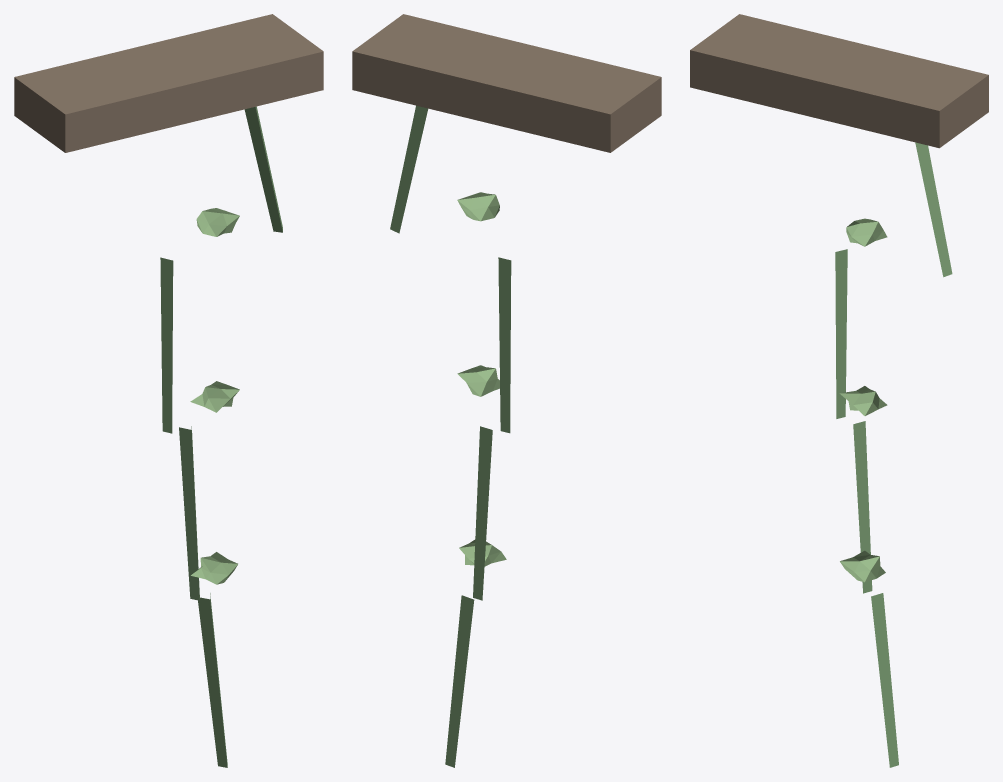
The model's file is vine_v09.glb.
3 renders of one model, left to right at view 1: azimuth 30°, elevation 25°; view 2: azimuth 150°, elevation 25°; view 3: azimuth 330°, elevation 25°, orthographic. The views are drawn at different scales.
Parts seen in each view (by area): view 1: lod0; view 2: lod0; view 3: lod0.
Boxes of the visible parts, x1,y1,x2,y2 form: lod0: (14,14,323,767); lod0: (352,14,661,767); lod0: (690,14,988,767).
Size of what is drawn, in the model's own units: 0.7 by 1.85 by 0.2417.
